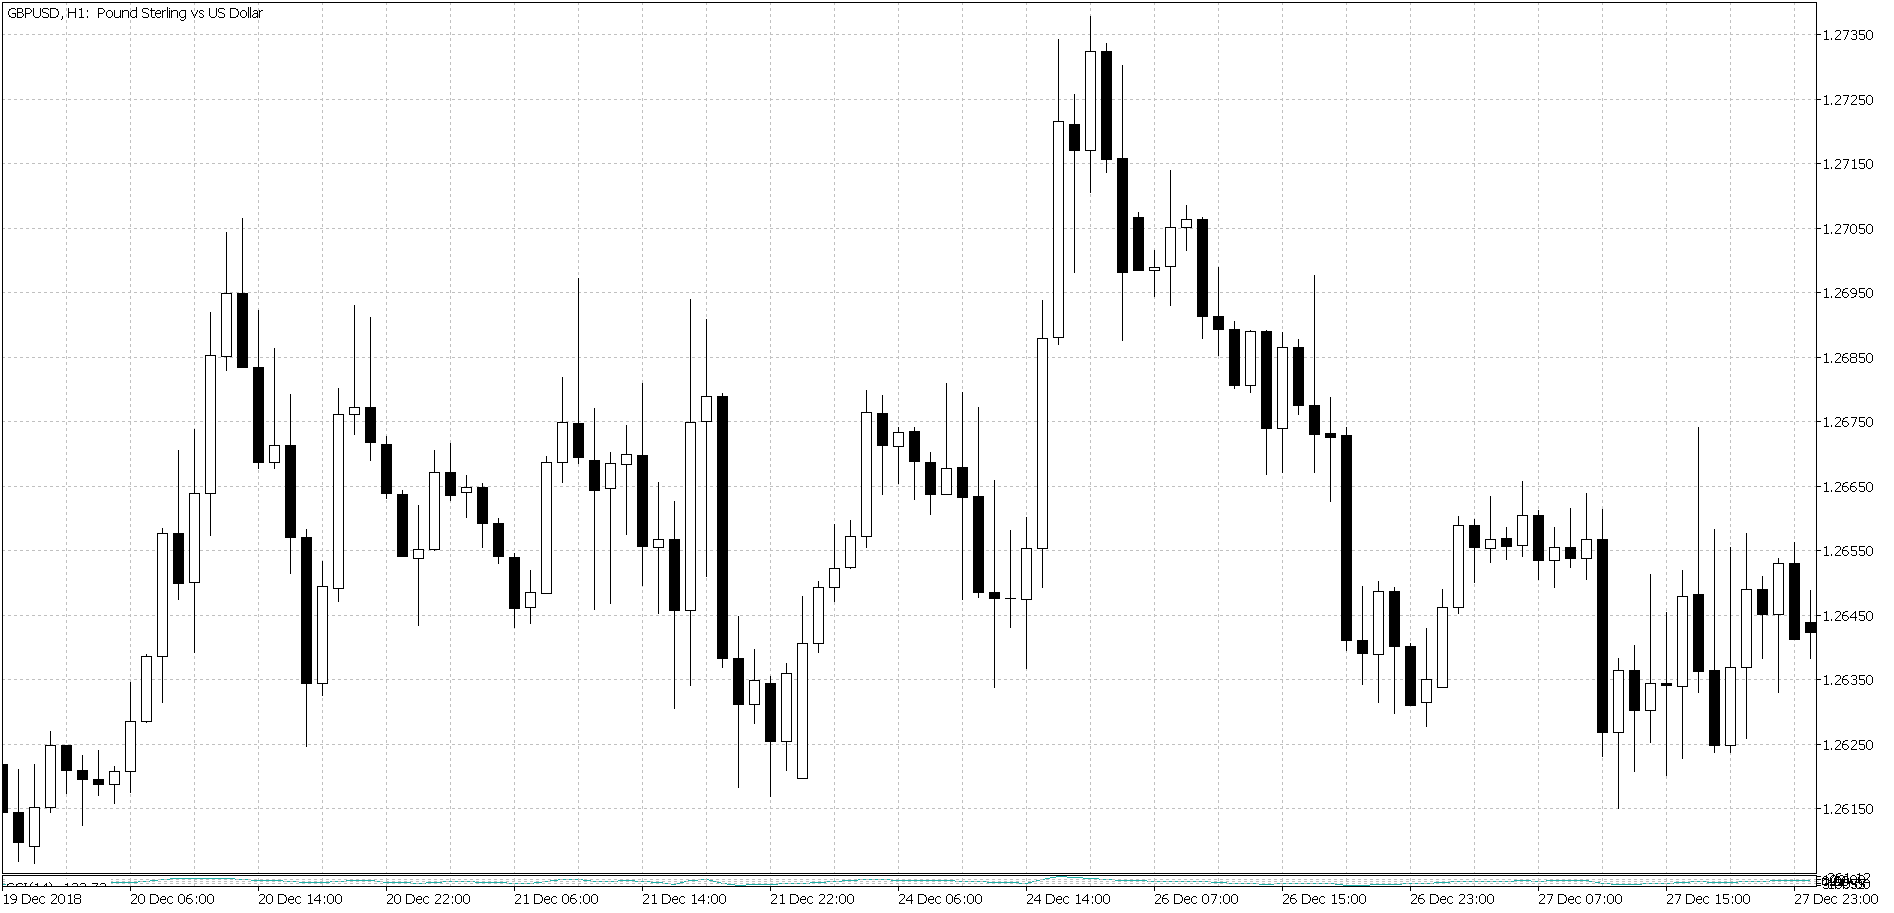headAndShoulders: (813, 1, 1585, 741)
morningDojiStar: (988, 521, 1033, 671)
